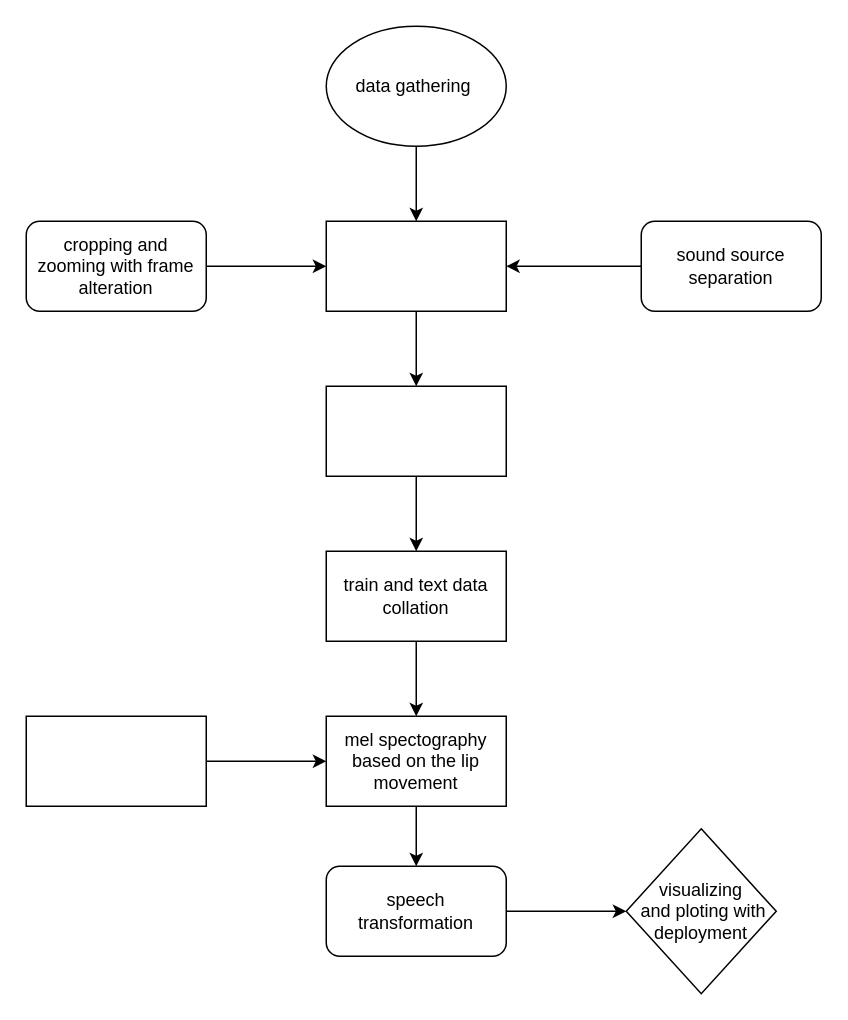
The diagram is 848 pixels wide and 1020 high, and some of its shapes have lost their labels. The box of each missing label's shape, as (x1, y1, x2, y2) in pixels:
hyper grid creation: (25, 715, 206, 806)
lip area extraction and data preprocessing: (325, 220, 506, 311)
model arch building using torch: (325, 385, 506, 476)
